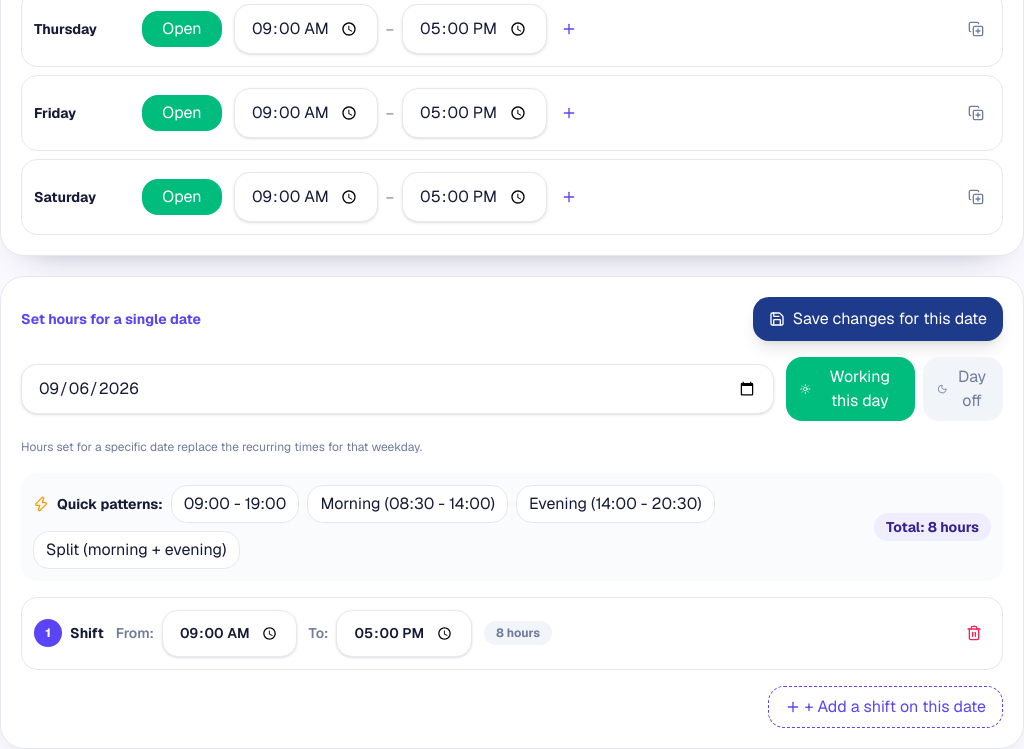
Test: business hours & shifts screen › warns that a day off frees nothing on its own
(page scrolled)
Click the button "Day off" at [963, 389], box [923, 357, 1003, 421]
(page scrolled)
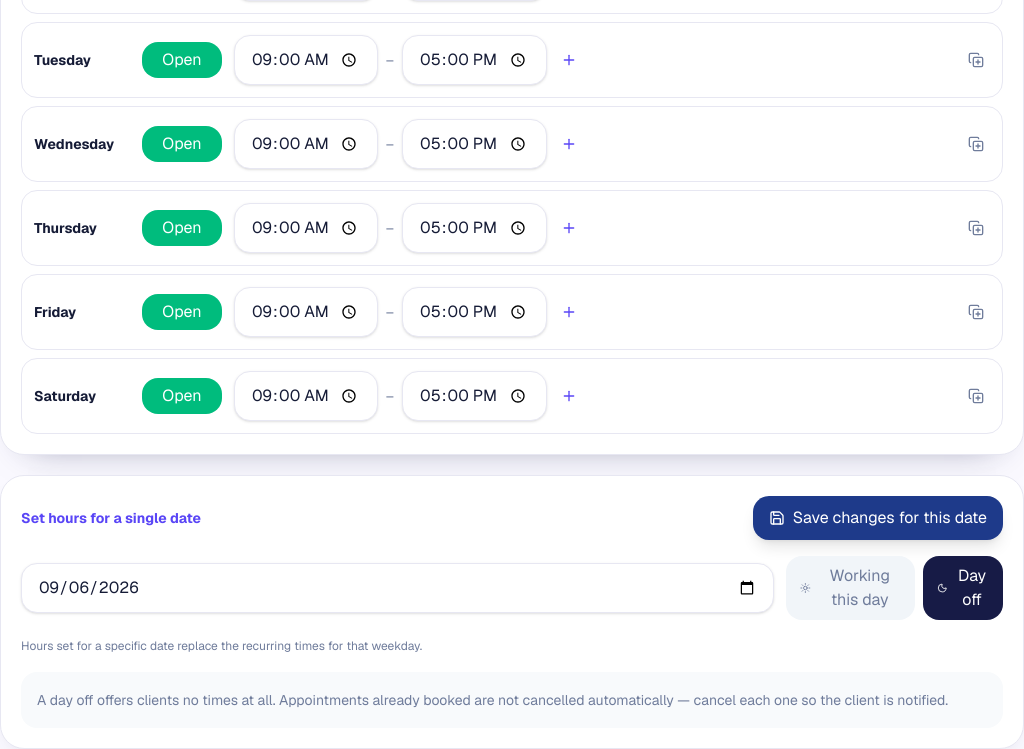
Now the text "Appointments already booked are not cancelled automatically" is shown, box [37, 691, 948, 709]
